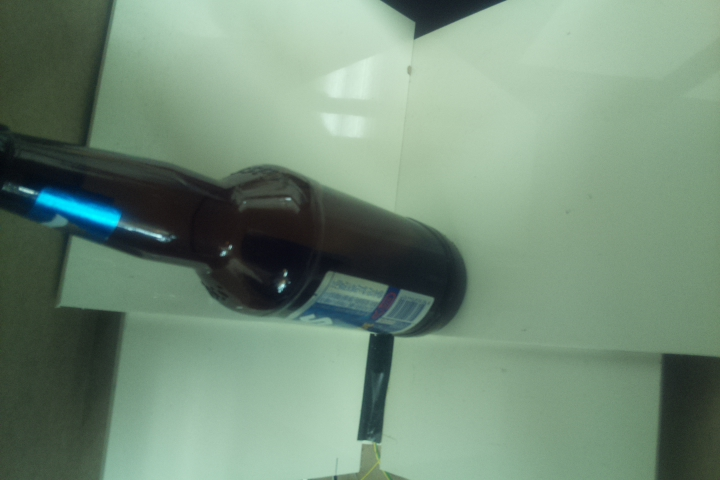makju: (1, 120, 467, 340)
